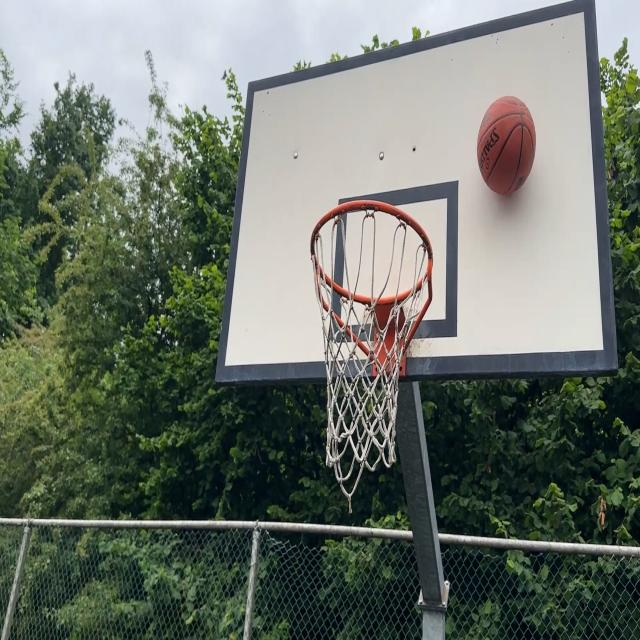rebound_hit: (477, 95, 537, 196)
